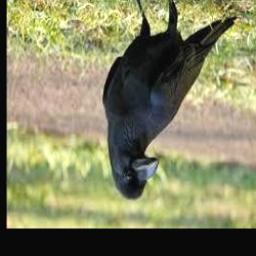Crow: (103, 0, 237, 201)
